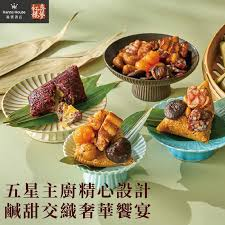zongzi: (156, 81, 214, 141), (28, 66, 86, 122), (74, 110, 130, 167)
